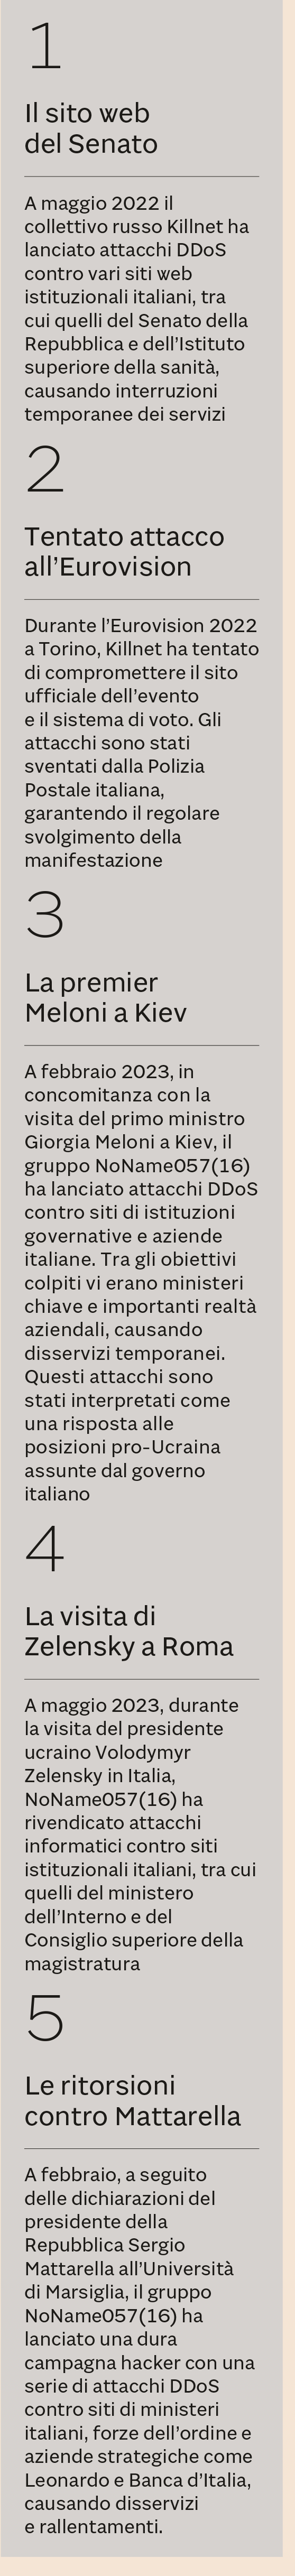scheda-punti-numero-1: (8, 881, 280, 1515), (7, 1988, 277, 2550), (7, 1516, 284, 1986), (5, 435, 277, 879), (3, 8, 279, 429)
